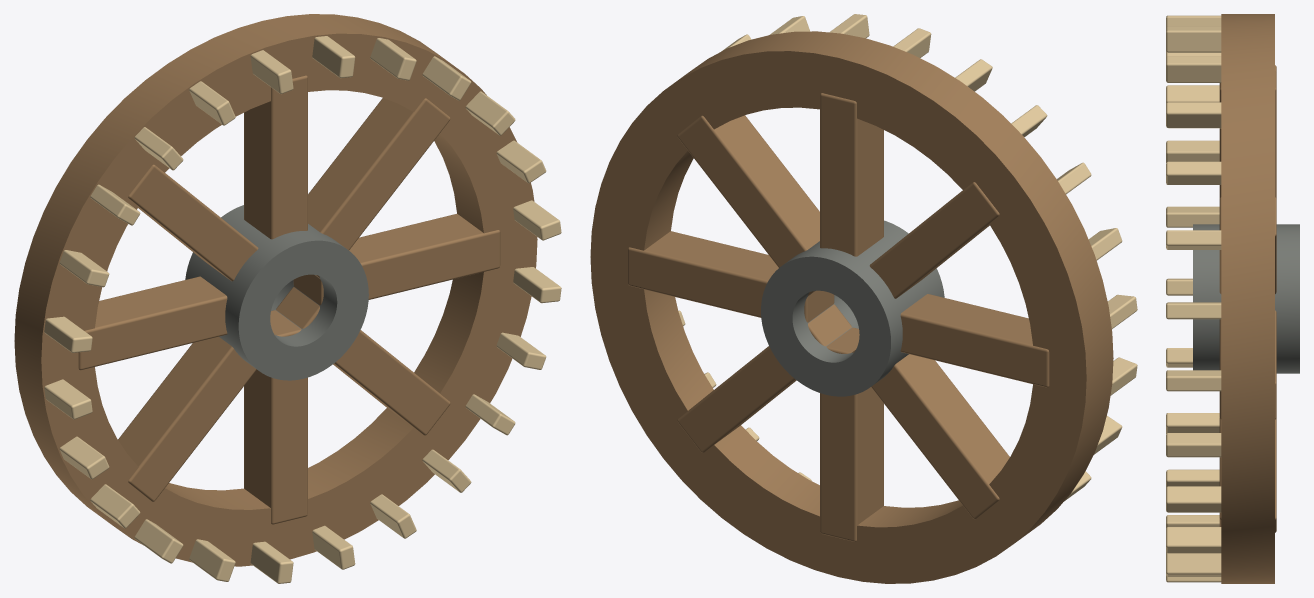
Rendered from timber-pit-wheel.glb.
3 views of the same model, side by side, from view 1: azimuth 30°, elevation 25°; view 2: azimuth 150°, elevation 25°; view 3: azimuth 270°, elevation 25° (orthographic).
Parts seen in each view (by area): view 1: timber-pit-wheel; view 2: timber-pit-wheel; view 3: timber-pit-wheel.
Part boxes in pixels (x1,y1,x2,y2): timber-pit-wheel: (14, 14, 561, 583); timber-pit-wheel: (590, 14, 1137, 583); timber-pit-wheel: (1166, 14, 1299, 583).
Bounding box in the file's own units: 1.6 × 1.6 × 0.3749.
